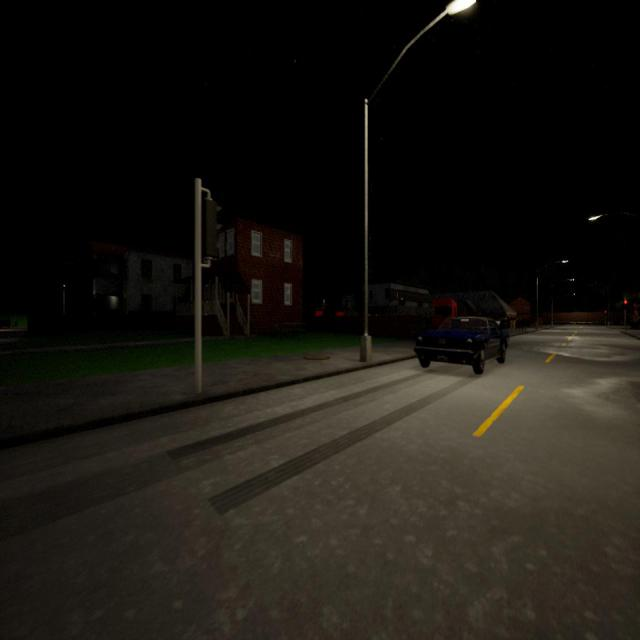Vehicle: (414, 317, 508, 374)
traffic_light: (201, 198, 220, 262), (624, 299, 628, 310), (604, 310, 606, 315)
